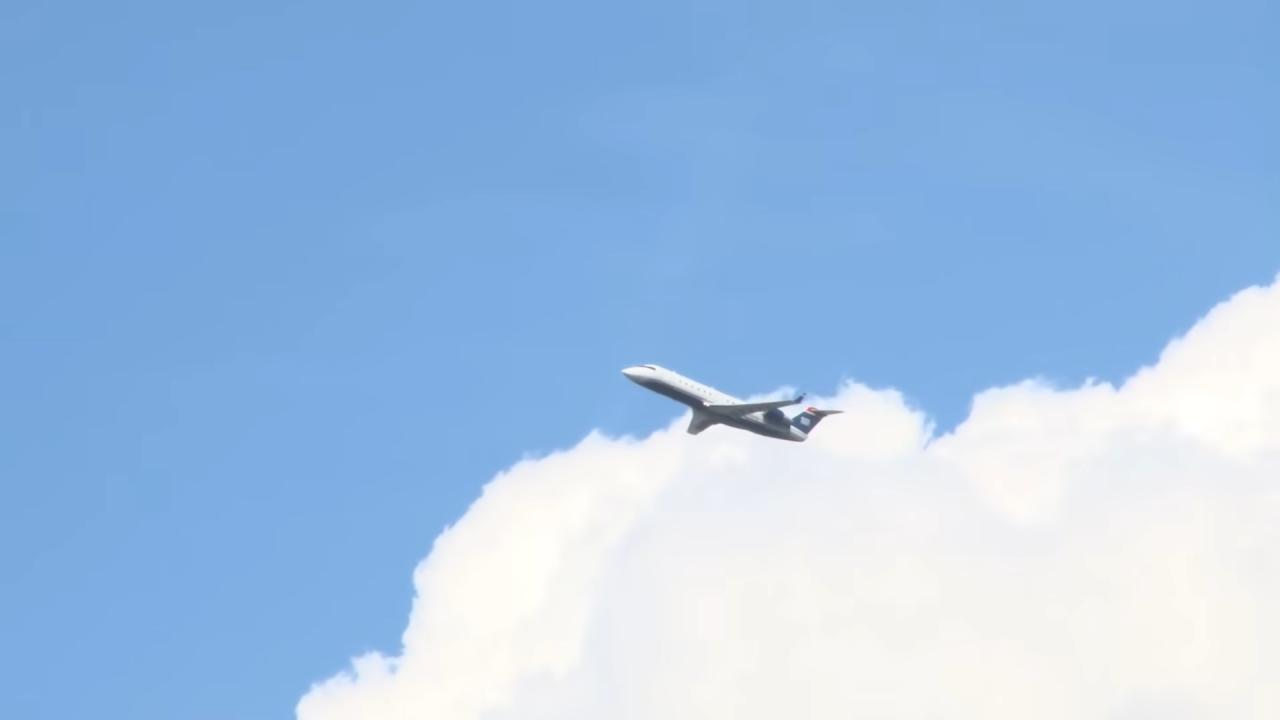Airplane: (611, 348, 856, 462)
